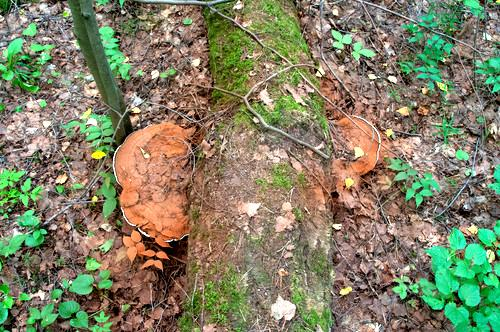Ganoderma - Fruit Body: (118, 120, 193, 238), (323, 111, 378, 178)
